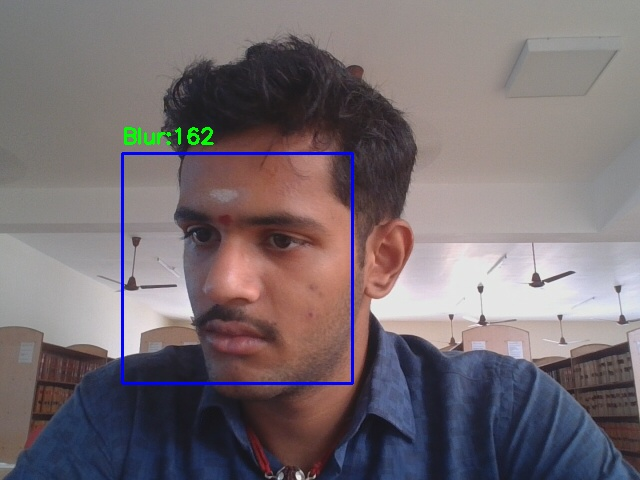real: (122, 153, 352, 383)
